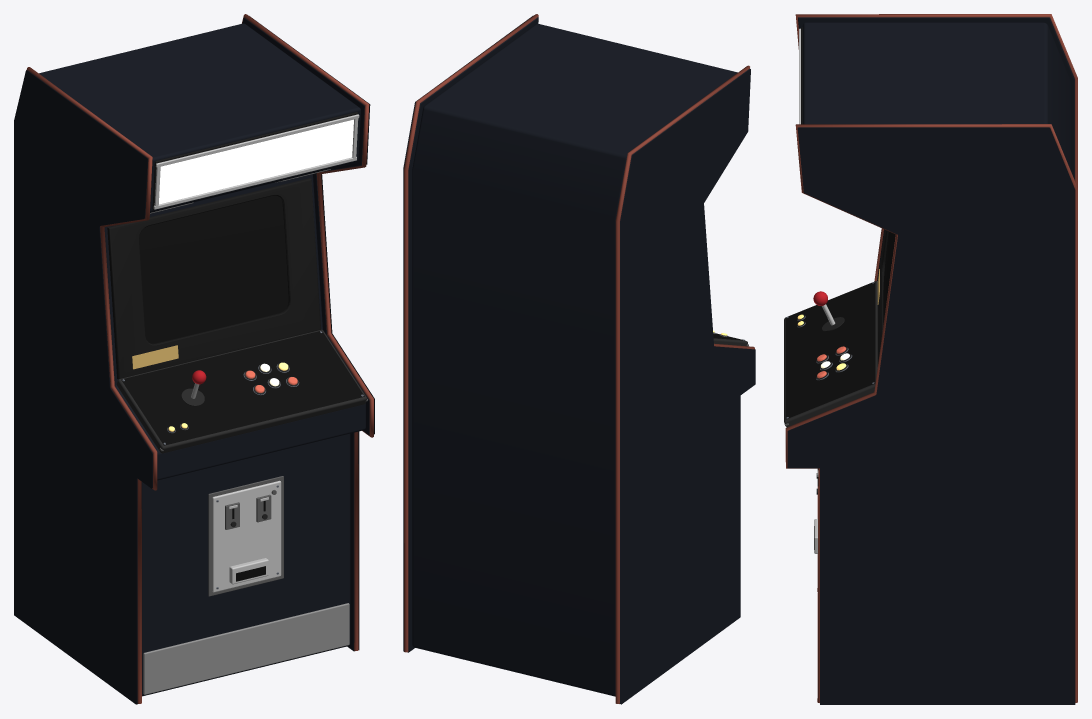
File: cab-cab-no-9.glb
The picture shows the model from 3 angles, left to right: view 1: azimuth 30°, elevation 25°; view 2: azimuth 150°, elevation 25°; view 3: azimuth 270°, elevation 25°; orthographic projection. The views are drawn at different scales.
Parts seen in each view (by area): view 1: side_art_l, body, front_art, controls, screen, glass, deck_art, metal, coin, marquee, trim, side_art_r (+1 smaller); view 2: body, side_art_l, trim, side_art_r; view 3: side_art_r, body, deck_art, trim, controls, glass, screen, joy.
Part boxes in pixels (<box>): side_art_l: <box>14,70,151,704</box>; body: <box>27,17,369,704</box>; front_art: <box>143,434,348,652</box>; controls: <box>107,112,366,453</box>; screen: <box>139,195,288,343</box>; glass: <box>139,195,289,344</box>; deck_art: <box>121,330,364,445</box>; metal: <box>143,114,367,694</box>; coin: <box>208,476,283,596</box>; marquee: <box>159,119,353,204</box>; trim: <box>26,14,373,703</box>; side_art_r: <box>250,16,374,649</box>; body: <box>407,17,749,703</box>; side_art_l: <box>621,69,755,704</box>; trim: <box>404,14,754,703</box>; side_art_r: <box>403,16,532,651</box>; side_art_r: <box>787,127,1075,704</box>; body: <box>788,17,1074,430</box>; deck_art: <box>785,281,875,419</box>; trim: <box>785,14,1077,702</box>; controls: <box>784,27,888,427</box>; glass: <box>882,231,894,328</box>; screen: <box>883,231,895,324</box>; joy: <box>813,291,844,331</box>.
Bounding box in the file's own units: 0.783 × 1.87 × 0.8581.
